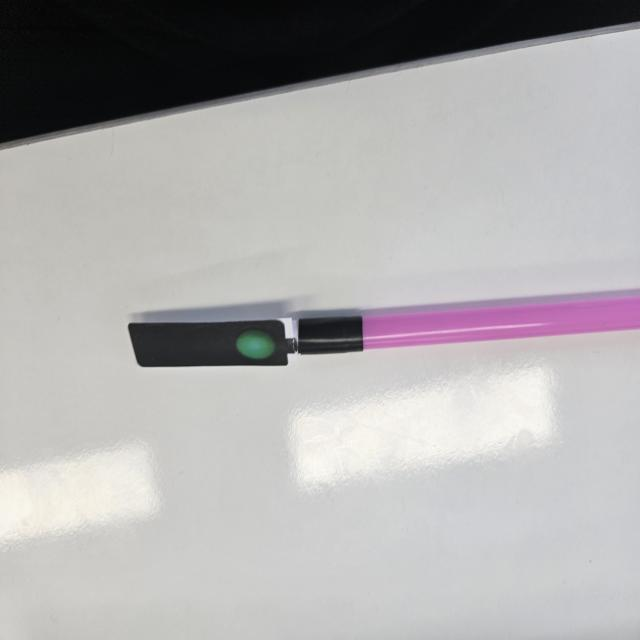traffic light: (127, 320, 294, 371)
